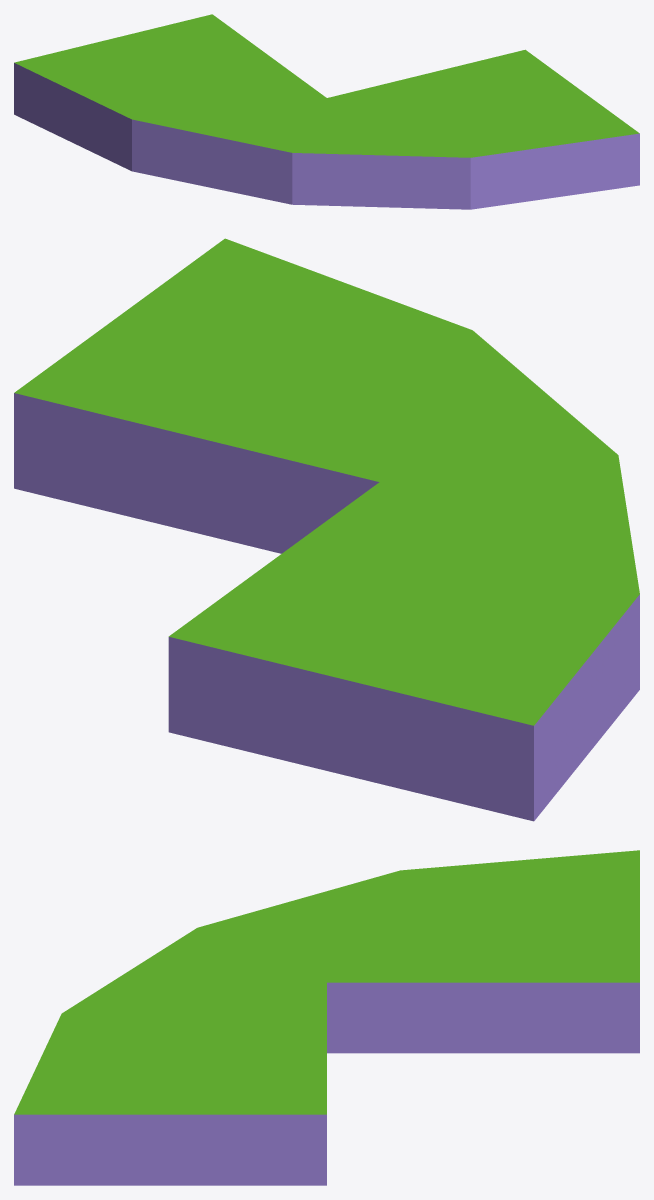
File: Tiered_Grass_Curve_Outer_2x2.glb
3 views of the same model, one above another, from view 1: azimuth 30°, elevation 25°; view 2: azimuth 150°, elevation 25°; view 3: azimuth 270°, elevation 25° (orthographic). The views are drawn at different scales.
Visible parts, largest first — view 1: Tiered_Grass_Curve_Outer_2x2; view 2: Tiered_Grass_Curve_Outer_2x2; view 3: Tiered_Grass_Curve_Outer_2x2.
Part boxes in pixels (x1=…): Tiered_Grass_Curve_Outer_2x2: x1=14, y1=14, x2=639, y2=209; Tiered_Grass_Curve_Outer_2x2: x1=14, y1=238, x2=639, y2=821; Tiered_Grass_Curve_Outer_2x2: x1=14, y1=850, x2=639, y2=1185.
Bounding box in the file's own units: 200 × 25 × 200.
